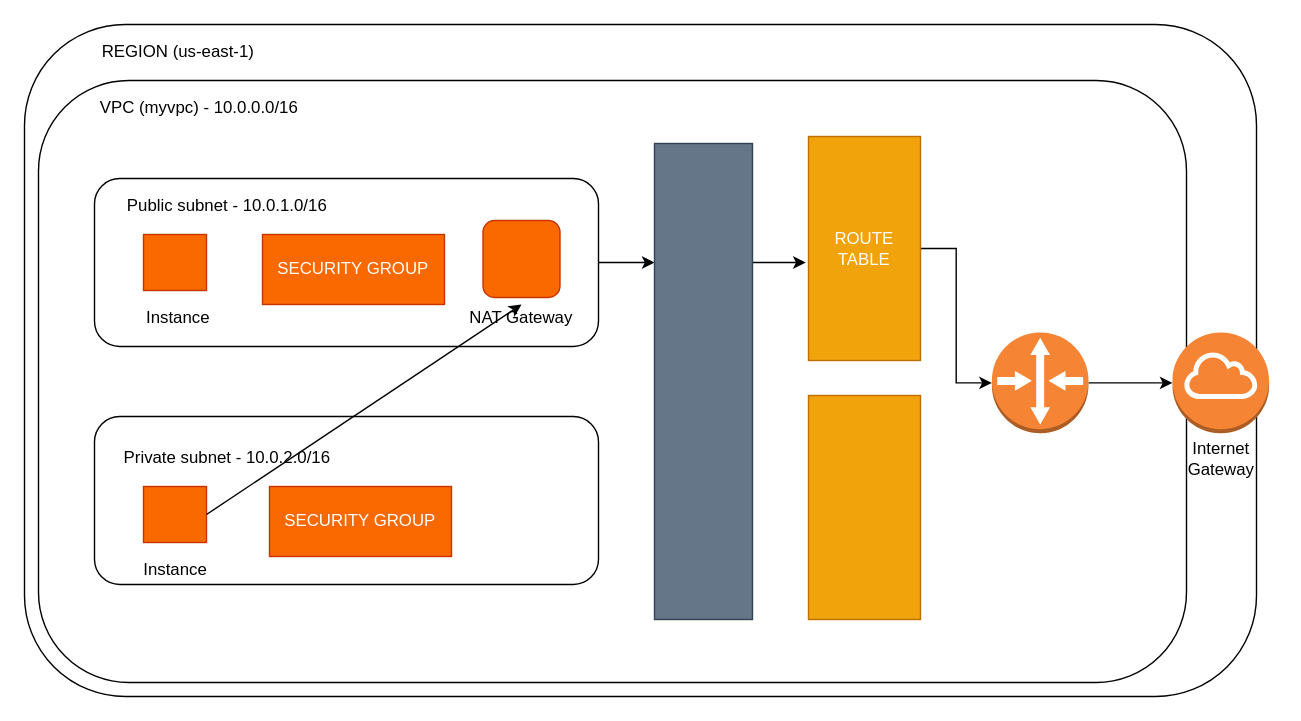
The diagram is 1301 pixels wide and 721 high, and some of its shapes have lost their labels. The centre of each missing label's shape, as x and y in pixels:
NACL: (x=702, y=381)
ROUTER: (x=1039, y=382)
